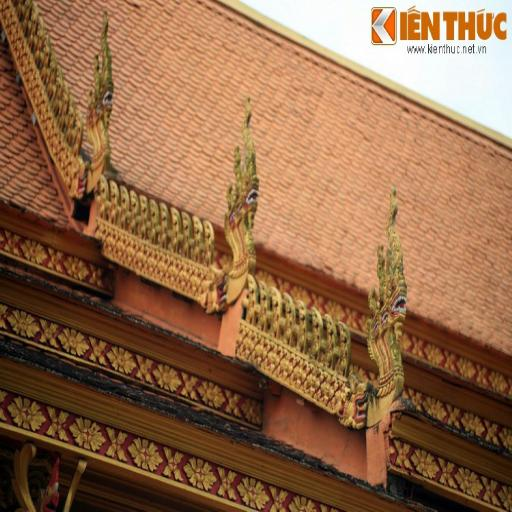hoa: (71, 410, 104, 452), (8, 396, 44, 432), (238, 472, 268, 512), (131, 434, 162, 472), (184, 452, 215, 490), (59, 323, 87, 357), (9, 306, 36, 339), (106, 346, 136, 374), (154, 360, 180, 392), (200, 377, 226, 409), (412, 449, 438, 481), (456, 464, 479, 498), (242, 394, 263, 426), (64, 255, 88, 283), (464, 410, 486, 440), (424, 394, 446, 422), (22, 237, 44, 264), (490, 362, 508, 394), (290, 491, 316, 512), (456, 357, 477, 382), (424, 343, 445, 368), (327, 298, 344, 319), (294, 284, 312, 303), (500, 482, 512, 509), (498, 426, 512, 447), (359, 310, 370, 333), (261, 270, 275, 287), (400, 337, 412, 349)
la: (51, 64, 64, 105), (58, 87, 70, 128), (65, 98, 76, 140), (26, 4, 38, 38), (46, 52, 56, 88), (40, 36, 50, 71), (34, 21, 45, 51), (74, 118, 81, 152)
lua: (324, 313, 338, 366), (337, 318, 350, 374), (97, 167, 109, 223), (246, 272, 258, 326), (284, 290, 296, 344), (310, 302, 321, 360), (271, 280, 282, 336), (296, 296, 307, 350), (259, 274, 269, 328), (170, 203, 181, 252), (202, 218, 213, 266), (181, 209, 192, 255), (158, 198, 168, 247), (108, 181, 118, 227), (118, 182, 128, 228), (148, 198, 158, 243), (138, 191, 147, 238), (129, 188, 138, 233), (193, 212, 200, 260)
ran: (366, 236, 409, 382), (224, 148, 260, 270), (83, 56, 113, 170)
